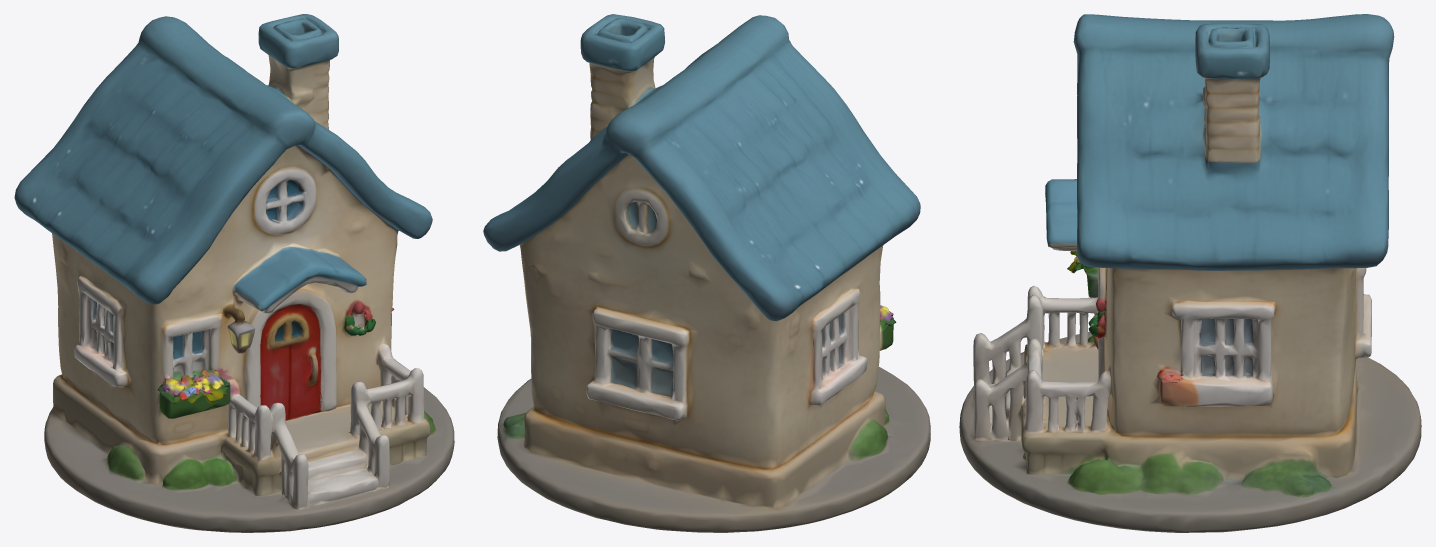
The model's file is alex_house.glb.
3 views of the same model, side by side, from view 1: azimuth 30°, elevation 25°; view 2: azimuth 150°, elevation 25°; view 3: azimuth 270°, elevation 25° (orthographic). The views are drawn at different scales.
Visible parts, largest first — view 1: world; view 2: world; view 3: world.
Part boxes in pixels (x1,y1,x2,y2): world: (14,14,454,532); world: (483,14,930,532); world: (959,14,1421,532).
Size of the model in its own units: 0.9457 by 1 by 0.9494.
1 material, 1 textured.
